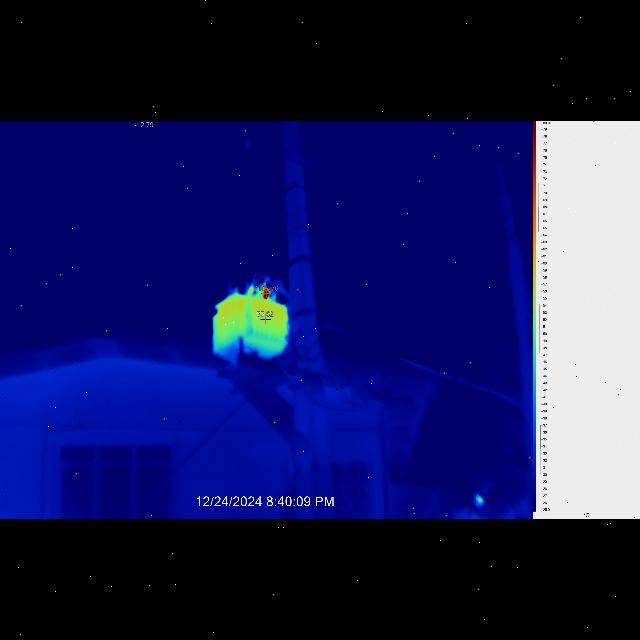loose_joint_red: (263, 289, 270, 300), (247, 286, 254, 297)
